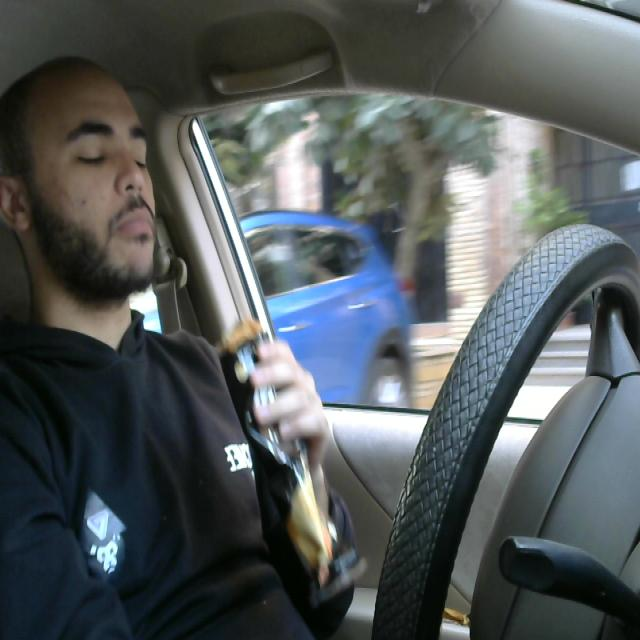eating: (215, 311, 365, 603)
